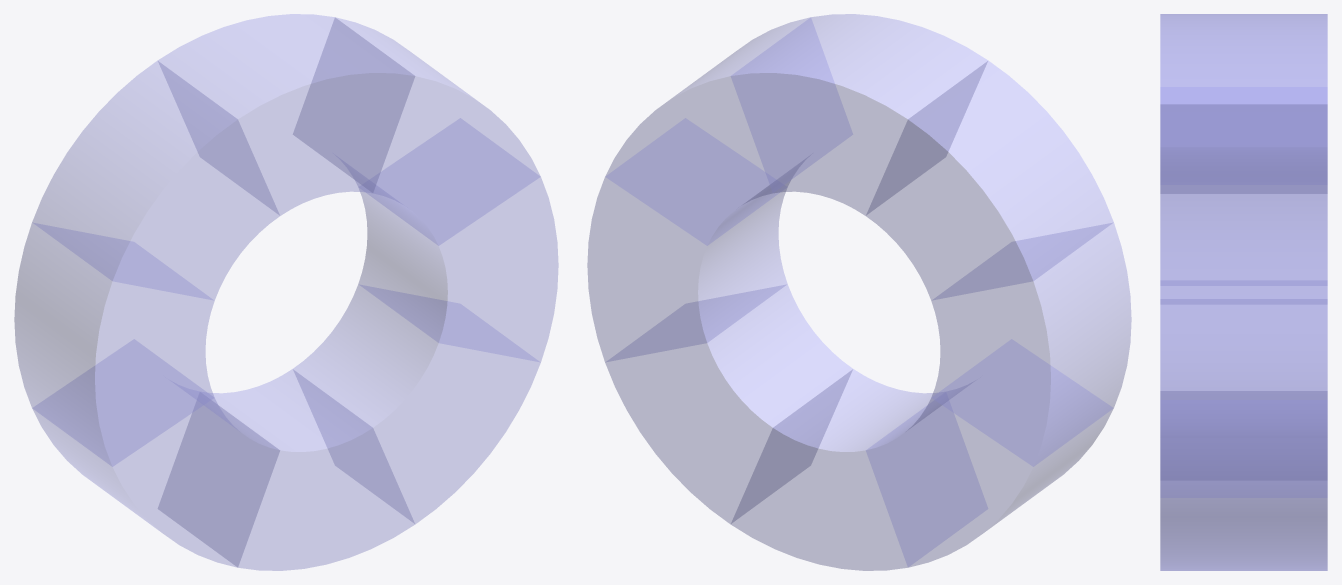
File: Belle2Geo_BKLM.gltf
The picture shows the model from 3 angles, left to right: view 1: azimuth 30°, elevation 25°; view 2: azimuth 150°, elevation 25°; view 3: azimuth 270°, elevation 25°; orthographic projection. The views are drawn at different scales.
Visible parts, largest first — view 1: BKLM.ForwardSector4Logical_4, BKLM.ForwardSector8Logical_8, BKLM.ForwardSector5Logical_5, BKLM.ForwardSector3Logical_3, BKLM.ForwardSector1Logical_1, BKLM.ForwardSector7Logical_7, BKLM.ForwardSector6Logical_6, BKLM.ForwardSector2Logical_2; view 2: BKLM.ForwardSector4Logical_4, BKLM.ForwardSector8Logical_8, BKLM.ForwardSector5Logical_5, BKLM.ForwardSector3Logical_3, BKLM.ForwardSector1Logical_1, BKLM.ForwardSector7Logical_7, BKLM.ForwardSector6Logical_6, BKLM.ForwardSector2Logical_2; view 3: BKLM.ForwardSector2Logical_2, BKLM.ForwardSector1Logical_1, BKLM.ForwardSector3Logical_3, BKLM.ForwardSector8Logical_8, BKLM.ForwardSector6Logical_6, BKLM.ForwardSector5Logical_5, BKLM.ForwardSector4Logical_4, BKLM.ForwardSector7Logical_7.
Boxes of the visible parts, left/top/right/bottom form: BKLM.ForwardSector4Logical_4: left=32, top=61, right=279, bottom=300; BKLM.ForwardSector8Logical_8: left=293, top=284, right=540, bottom=523; BKLM.ForwardSector5Logical_5: left=14, top=223, right=214, bottom=466; BKLM.ForwardSector3Logical_3: left=158, top=14, right=414, bottom=215; BKLM.ForwardSector1Logical_1: left=358, top=118, right=558, bottom=362; BKLM.ForwardSector7Logical_7: left=158, top=369, right=414, bottom=570; BKLM.ForwardSector6Logical_6: left=32, top=339, right=279, bottom=567; BKLM.ForwardSector2Logical_2: left=293, top=17, right=540, bottom=245; BKLM.ForwardSector4Logical_4: left=866, top=61, right=1113, bottom=300; BKLM.ForwardSector8Logical_8: left=605, top=284, right=852, bottom=523; BKLM.ForwardSector5Logical_5: left=931, top=223, right=1131, bottom=466; BKLM.ForwardSector3Logical_3: left=731, top=14, right=987, bottom=215; BKLM.ForwardSector1Logical_1: left=587, top=118, right=787, bottom=362; BKLM.ForwardSector7Logical_7: left=731, top=369, right=987, bottom=570; BKLM.ForwardSector6Logical_6: left=866, top=339, right=1113, bottom=567; BKLM.ForwardSector2Logical_2: left=605, top=17, right=852, bottom=245; BKLM.ForwardSector2Logical_2: left=1160, top=104, right=1327, bottom=304; BKLM.ForwardSector1Logical_1: left=1160, top=299, right=1327, bottom=497; BKLM.ForwardSector3Logical_3: left=1160, top=14, right=1327, bottom=193; BKLM.ForwardSector8Logical_8: left=1160, top=400, right=1327, bottom=570; BKLM.ForwardSector6Logical_6: left=1160, top=286, right=1327, bottom=390; BKLM.ForwardSector5Logical_5: left=1160, top=194, right=1327, bottom=285; BKLM.ForwardSector4Logical_4: left=1160, top=14, right=1327, bottom=104; BKLM.ForwardSector7Logical_7: left=1160, top=391, right=1327, bottom=570.
Bounding box in the file's own units: 765 × 765 × 230.
